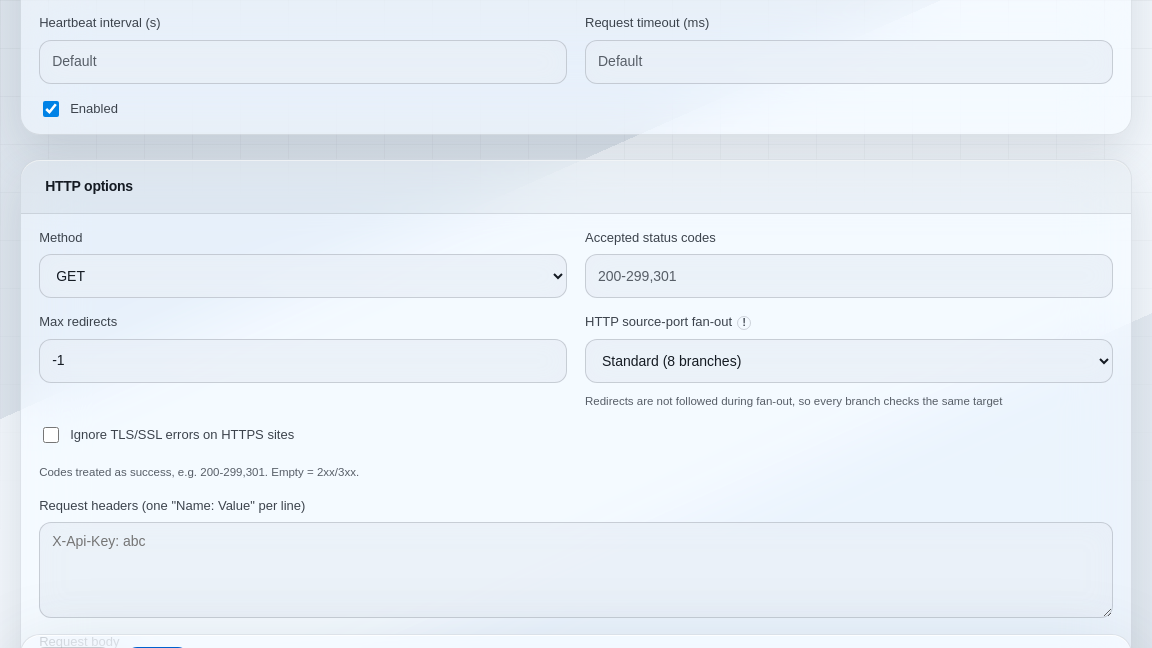
MonitorForm save navigation › uses the redirect default when an already-enabled HTTP fan-out is disabled
(page scrolled)
Select "Off (regular probe)" in the dropdown with id "http-flow-fanout" at (849, 361), box [585,339,1113,383]
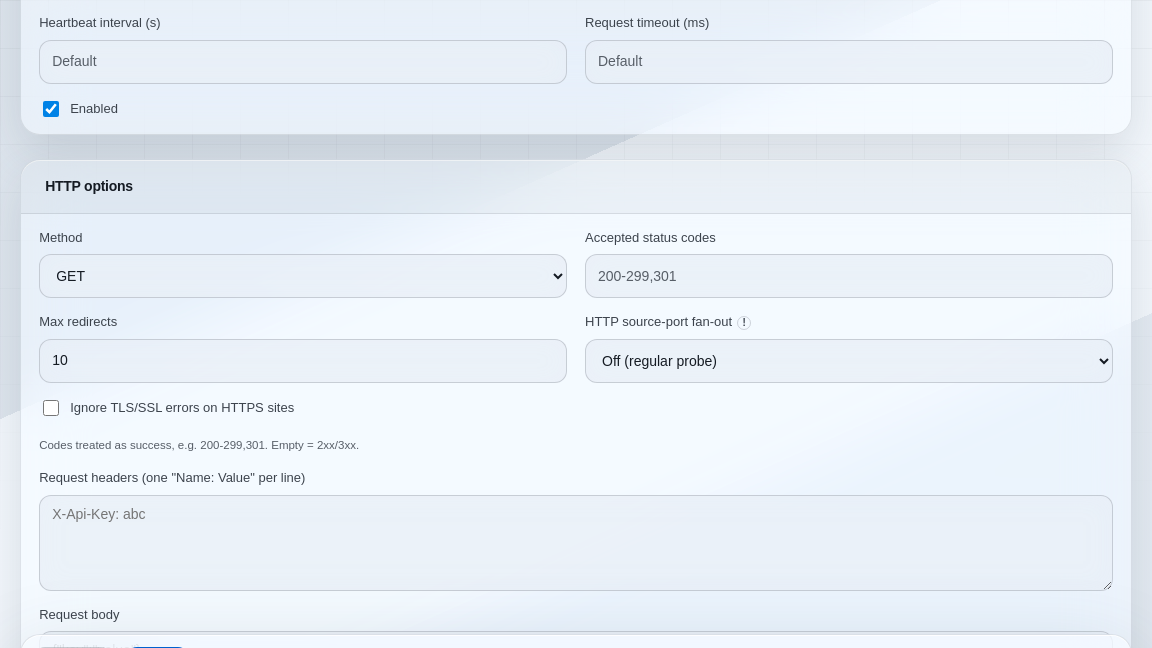
Check: the number field labelled "Max redirects" holds "10", box [39,339,567,383]
